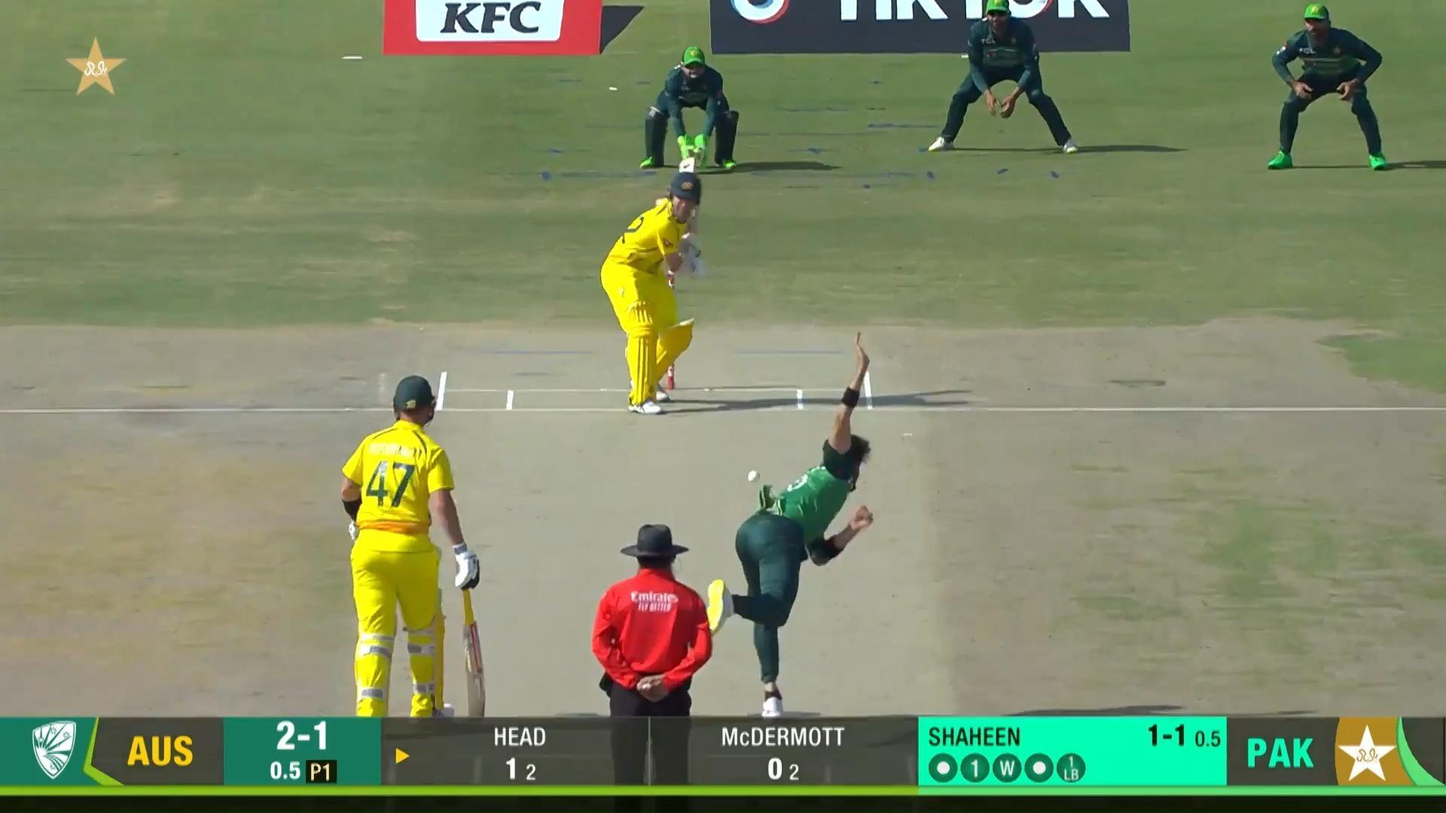BM 1: (600, 156, 705, 416)
BO: (704, 330, 876, 715)
